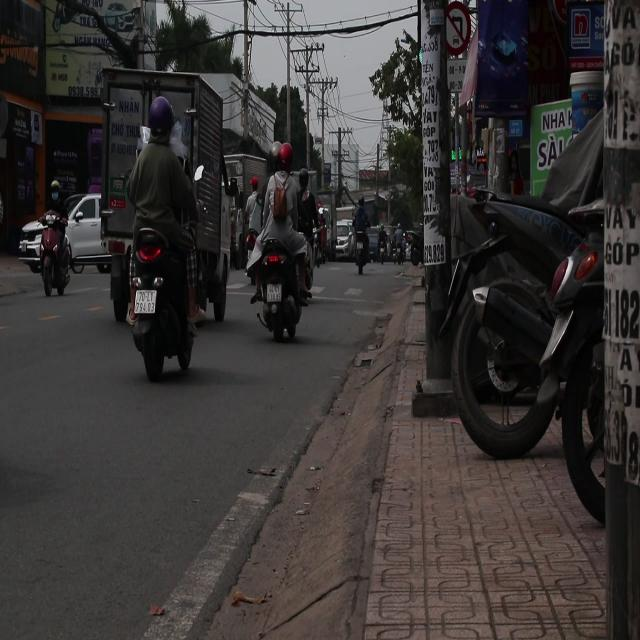car: (64, 194, 109, 272), (334, 222, 354, 256)
motorbike: (122, 218, 194, 380), (251, 237, 306, 341), (25, 206, 77, 297)
truck: (97, 58, 236, 340)
